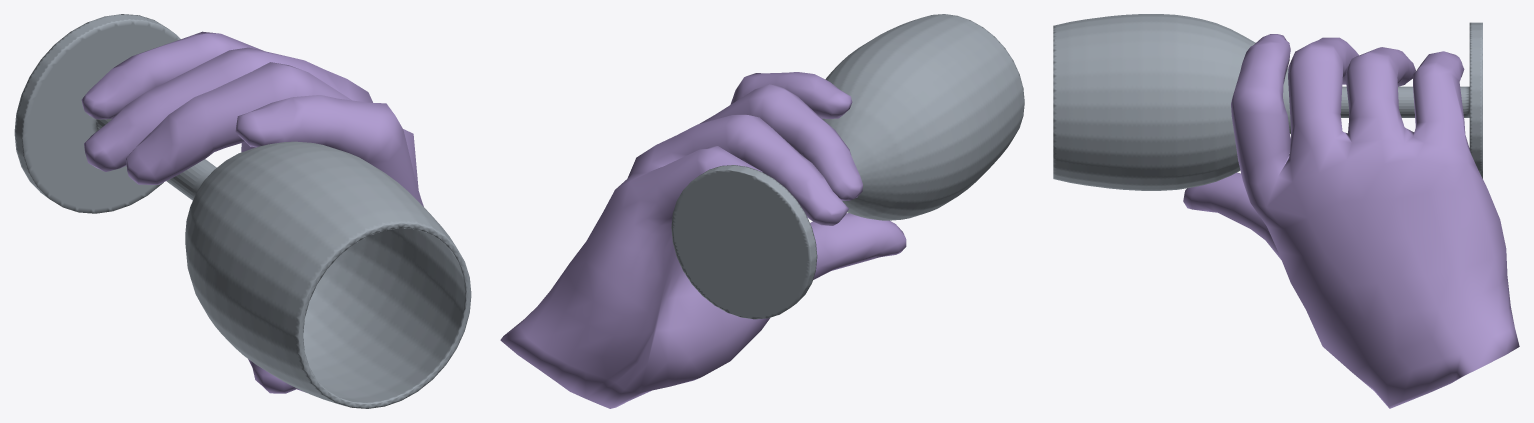
Rendered from ours_0.glb.
The picture shows the model from 3 angles, left to right: view 1: azimuth 30°, elevation 25°; view 2: azimuth 150°, elevation 25°; view 3: azimuth 270°, elevation 25°; orthographic projection. The views are drawn at different scales.
Size of the model in its own units: 0.1458 by 0.1342 by 0.1867.
